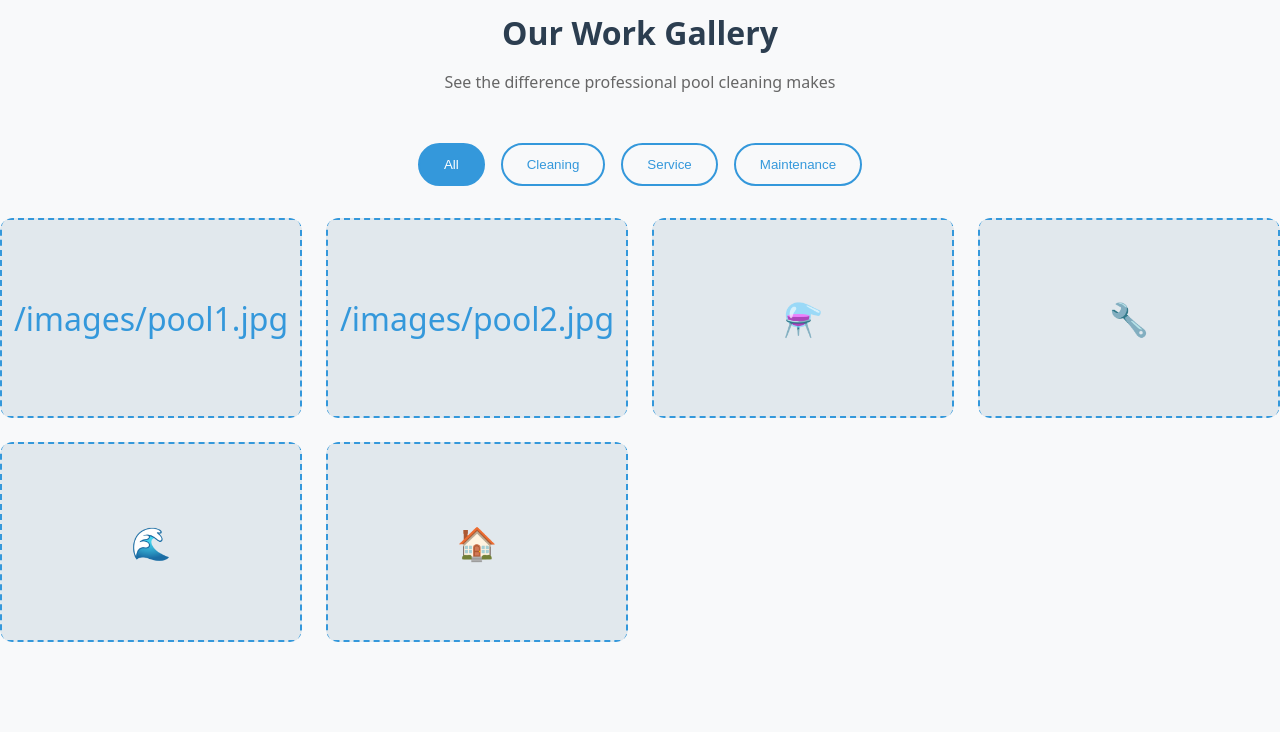
ImageGallery component › filters images by category (Cleaning)
The width and height of the screenshot is (1280, 732).
Expected: the number of elements with class "gallery-item" is 6, [0,218,302,418]; [326,218,628,418]; [652,218,954,418]; [978,218,1279,418]; [0,442,302,642]; [326,442,628,642]
Note: click Cleaning filter
Click the button "Cleaning": x=553, y=165 [501,143,605,186]
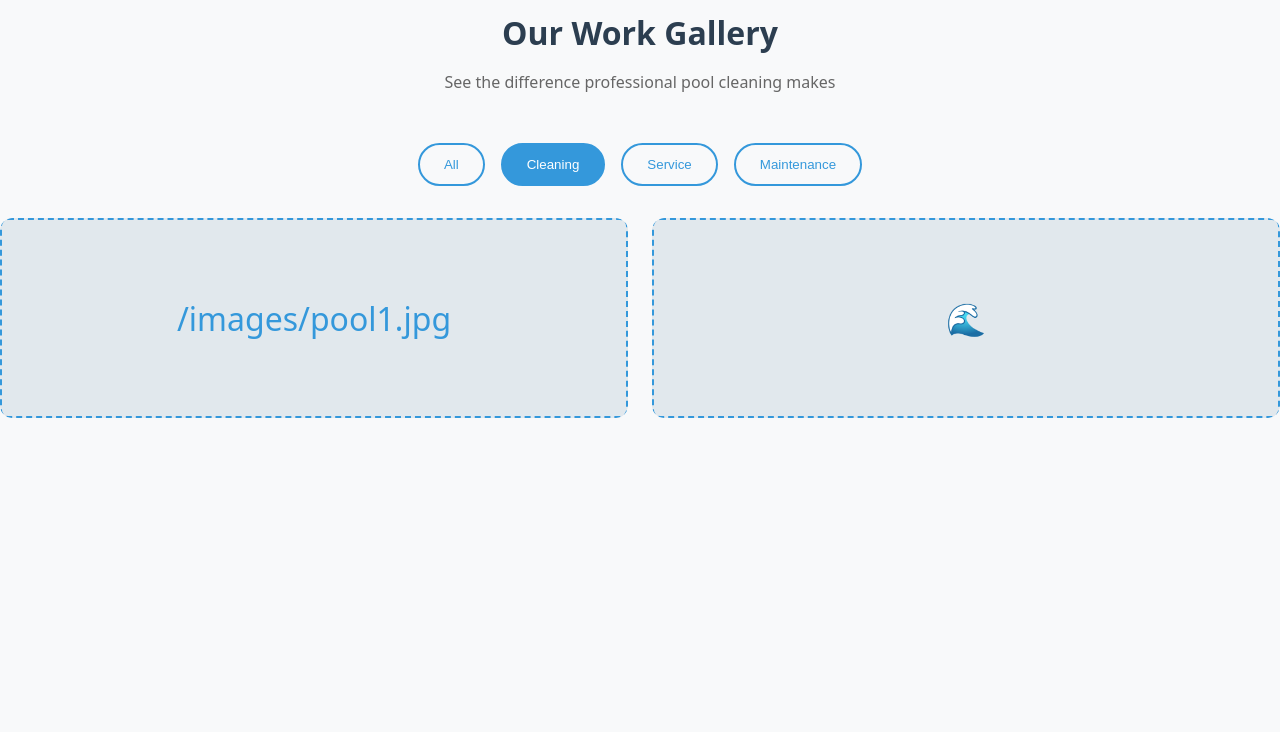
Now the number of elements with class "gallery-item" is 2, box [0,218,628,418]; [652,218,1279,418]
